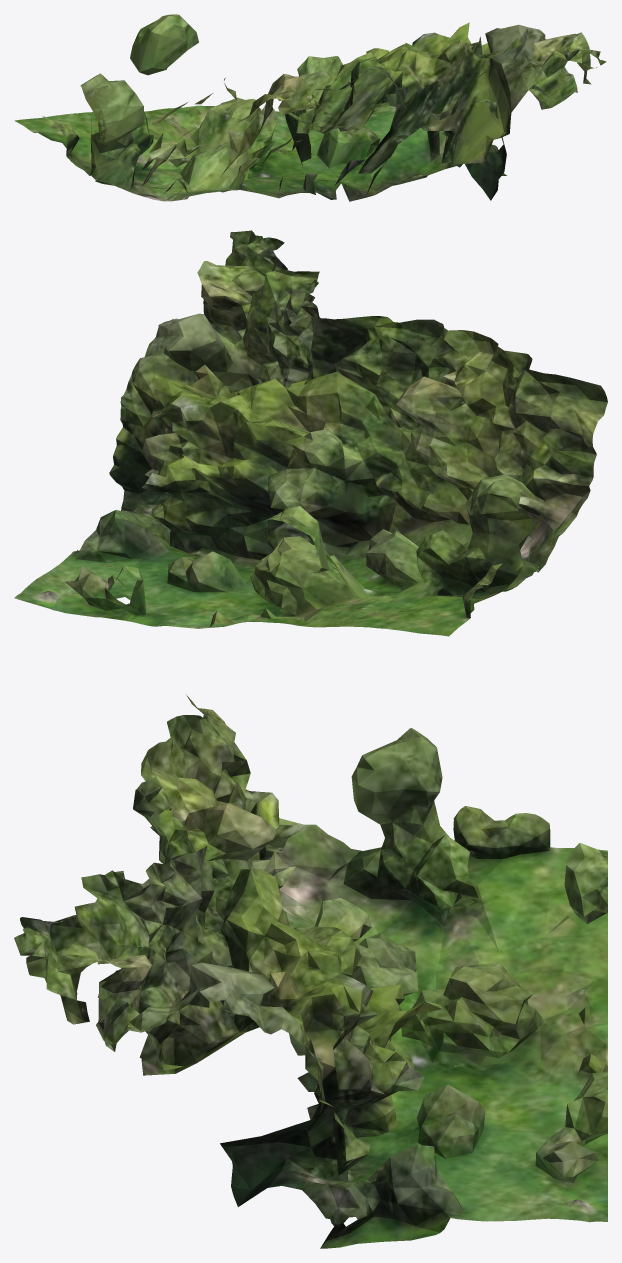
The picture shows the model from 3 angles, top to bottom: view 1: azimuth 30°, elevation 25°; view 2: azimuth 150°, elevation 25°; view 3: azimuth 270°, elevation 25°; orthographic projection. The views are drawn at different scales.
Bounding box in the file's own units: 52.22 × 26.08 × 46.53.
Materials: 5 (5 with a texture image).
